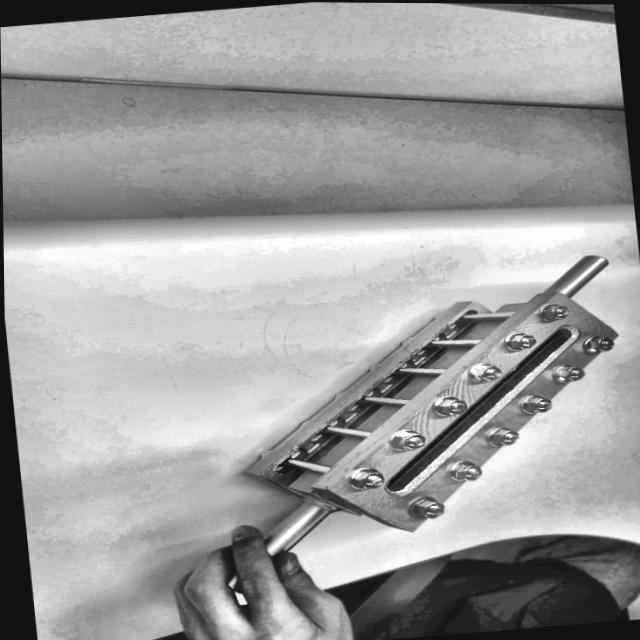ShuiWeiQi_12: (236, 244, 640, 553)
